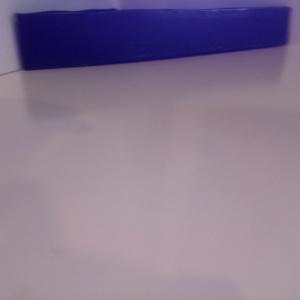zone: (15, 6, 295, 71)
